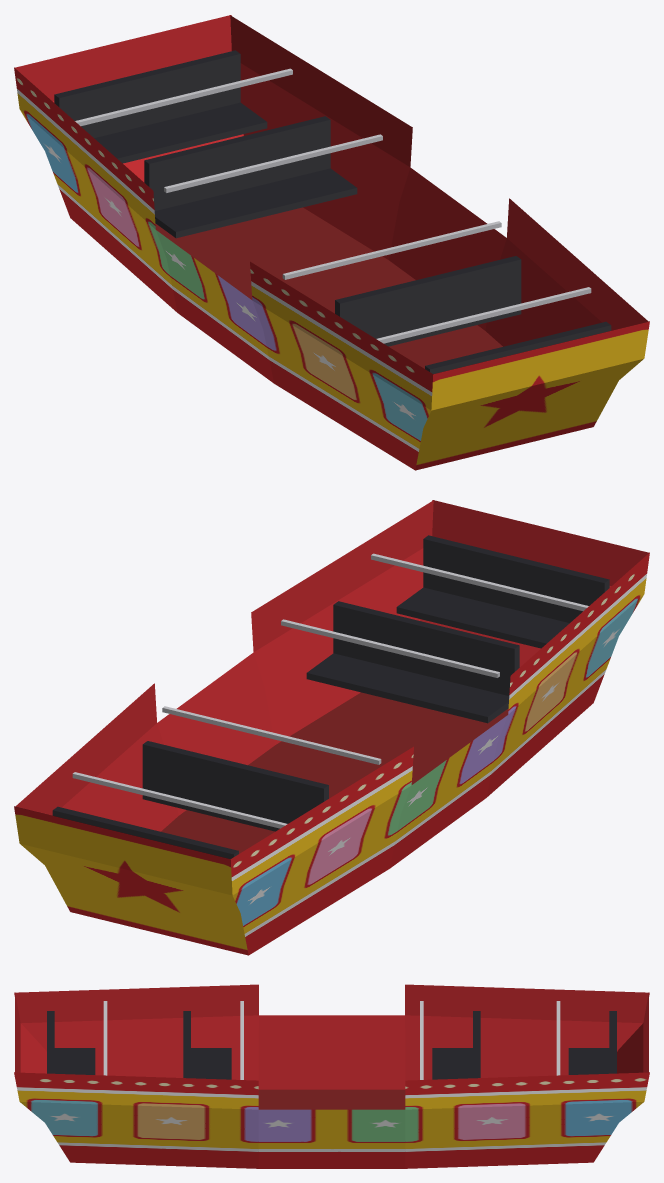
The model's file is 09_MiniViking_Tex2.glb.
The picture shows the model from 3 angles, top to bottom: view 1: azimuth 30°, elevation 25°; view 2: azimuth 150°, elevation 25°; view 3: azimuth 270°, elevation 25°; orthographic projection. The views are drawn at different scales.
Parts seen in each view (by area): view 1: 09_MiniViking; view 2: 09_MiniViking; view 3: 09_MiniViking.
Boxes of the visible parts, <box> form: 09_MiniViking: <box>14,15,649,470</box>; 09_MiniViking: <box>14,500,649,955</box>; 09_MiniViking: <box>14,984,649,1168</box>.
Size of the model in its own units: 2.4 by 1.13 by 6.7.
Materials: 1 (1 with a texture image).
